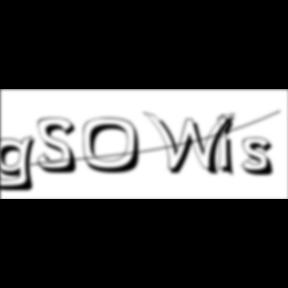O: (83, 117, 148, 176)
S: (38, 117, 84, 176)
W: (143, 110, 241, 178)
g: (1, 134, 44, 194)
i: (217, 112, 241, 180)
s: (242, 137, 280, 179)
